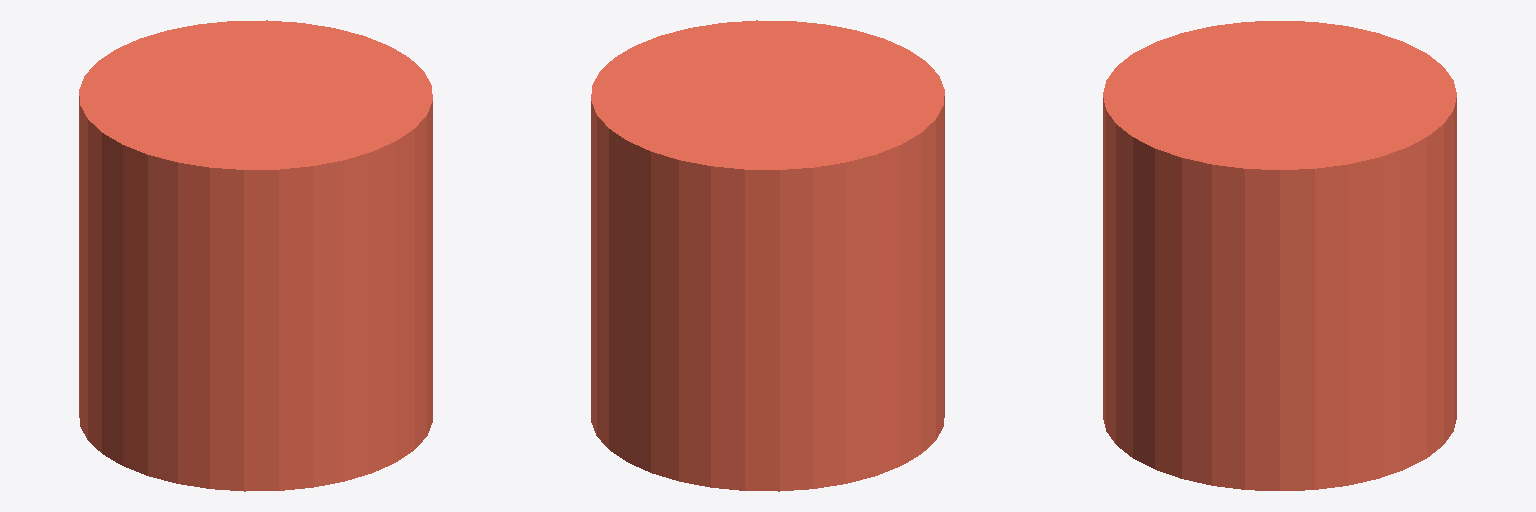
robot.urdf — red_can:
<robot name="red_can">

  <link name="can">
  	<inertial>
      <mass value="0.01"/>
      <inertia ixx="1.0" ixy="0.0" ixz="0.0" iyy="1.0" iyz="0.0" izz="1.0"/>
    </inertial>
 		<visual>
 			<origin rpy="0 0 0" xyz="0 0 0"/>
	    <geometry>
	      <cylinder length="0.15" radius="0.075"/>
	    </geometry>
	    <material name = "prop1">
	     	<color rgba="1 0.5 0.4 1"/>
	  	</material>
	  </visual>
    <collision>
    	<origin rpy="0 0 0" xyz="0 0 0"/>
      <geometry>
        <cylinder length="0.15" radius="0.075"/>
      </geometry>
    </collision>
  </link>

</robot>

--- What the picture shows (computed from the rendered views, not written in the file) ---
Views: 3 orthographic renders of the robot side by side, from view 1: azimuth 30°, elevation 25°; view 2: azimuth 150°, elevation 25°; view 3: azimuth 270°, elevation 25°.
Robot: red_can — 1 links, 0 joints (none); root link can; default pose: every joint at zero.
Links seen in each view (by area): view 1: can; view 2: can; view 3: can.
Link boxes in pixels (box(x1,y1,x2,y2)): can: box(79, 20, 432, 491); can: box(591, 20, 944, 491); can: box(1103, 21, 1456, 490).
Size in the robot's own frame: 0.15 by 0.15 by 0.15 metres.
Geometry: primitives only (box / cylinder / sphere), no mesh files.